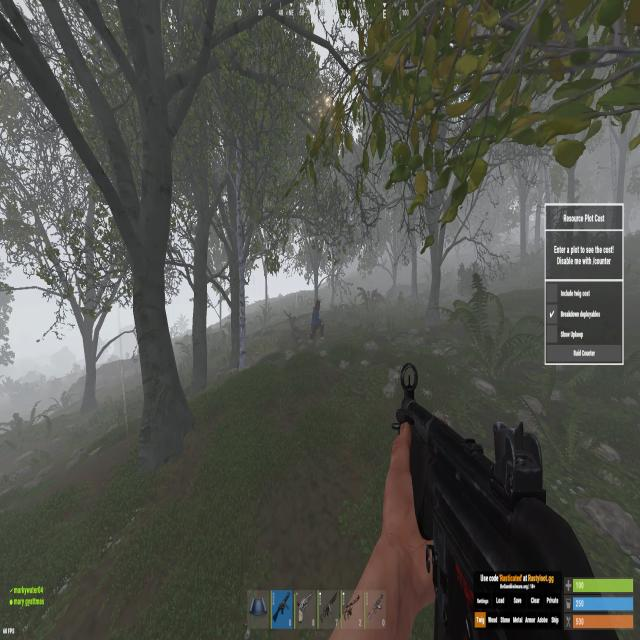Player: (307, 298, 324, 339)
